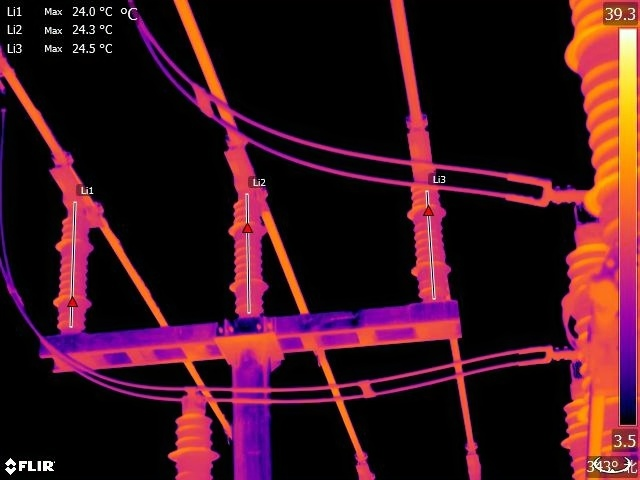post insulator: (45, 207, 94, 337), (223, 192, 272, 316), (165, 388, 224, 480), (406, 190, 454, 299)
